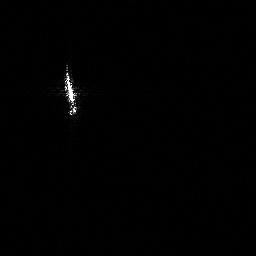ship: (61, 65, 83, 117)
